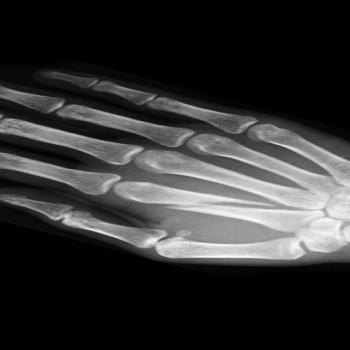Fracture: (155, 195, 290, 219)
